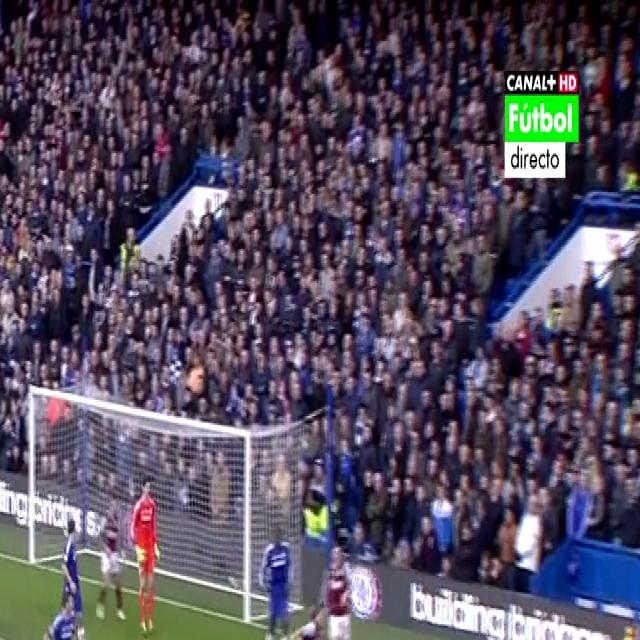goalkeeper: (127, 471, 168, 640)
soccer-player: (251, 514, 296, 640), (311, 538, 361, 640), (94, 499, 128, 632), (52, 502, 84, 634), (26, 588, 88, 640), (270, 597, 330, 640)
